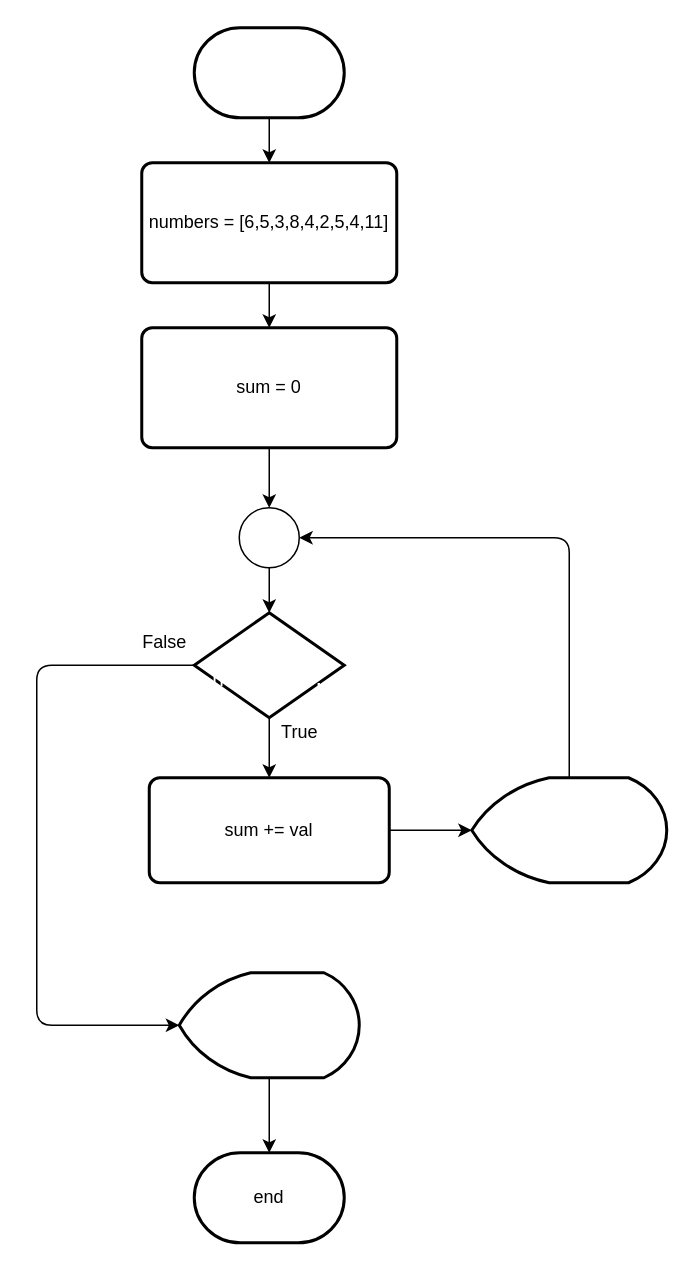
This 695x1269 diagram has some shape labels left out. The centre of each missing label's shape, as x and y in pixels:
"The sum is", sum: (268,1024)
sum: (569,830)
